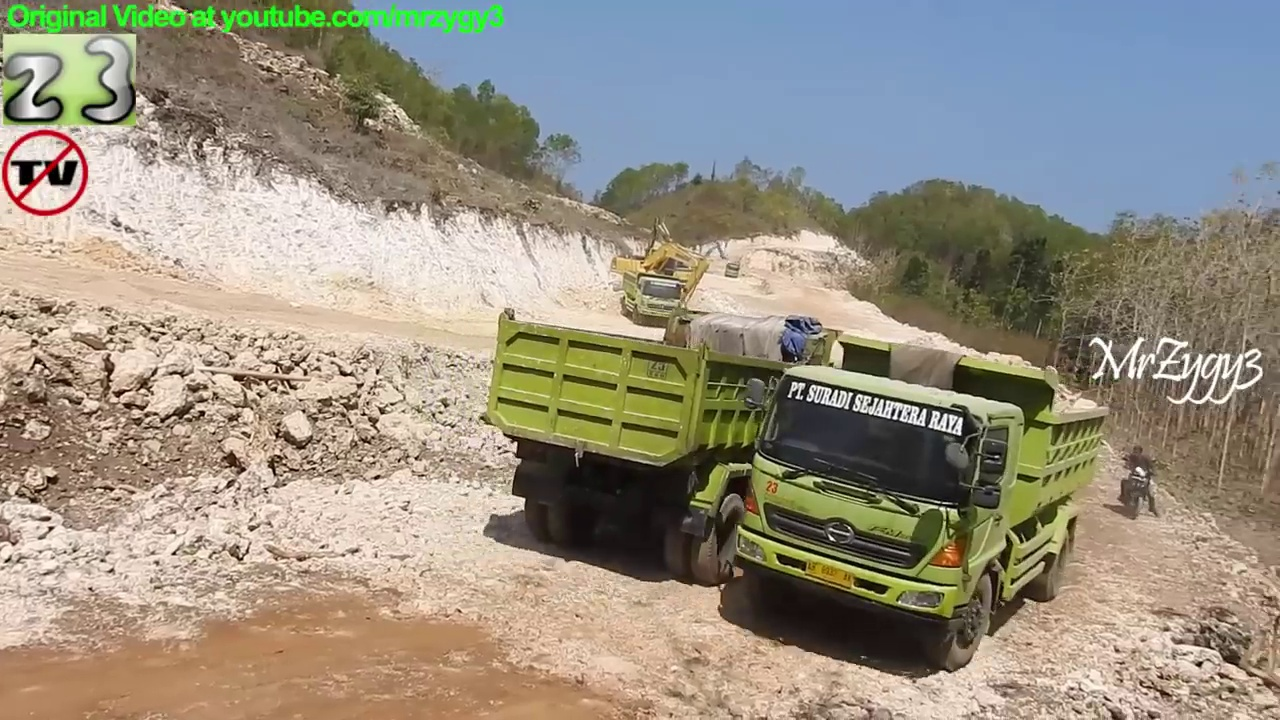excavator: (613, 240, 712, 307), (641, 217, 692, 285), (684, 236, 730, 278)
truck: (740, 327, 1116, 675), (477, 305, 905, 588), (619, 267, 691, 330), (722, 259, 744, 283)
